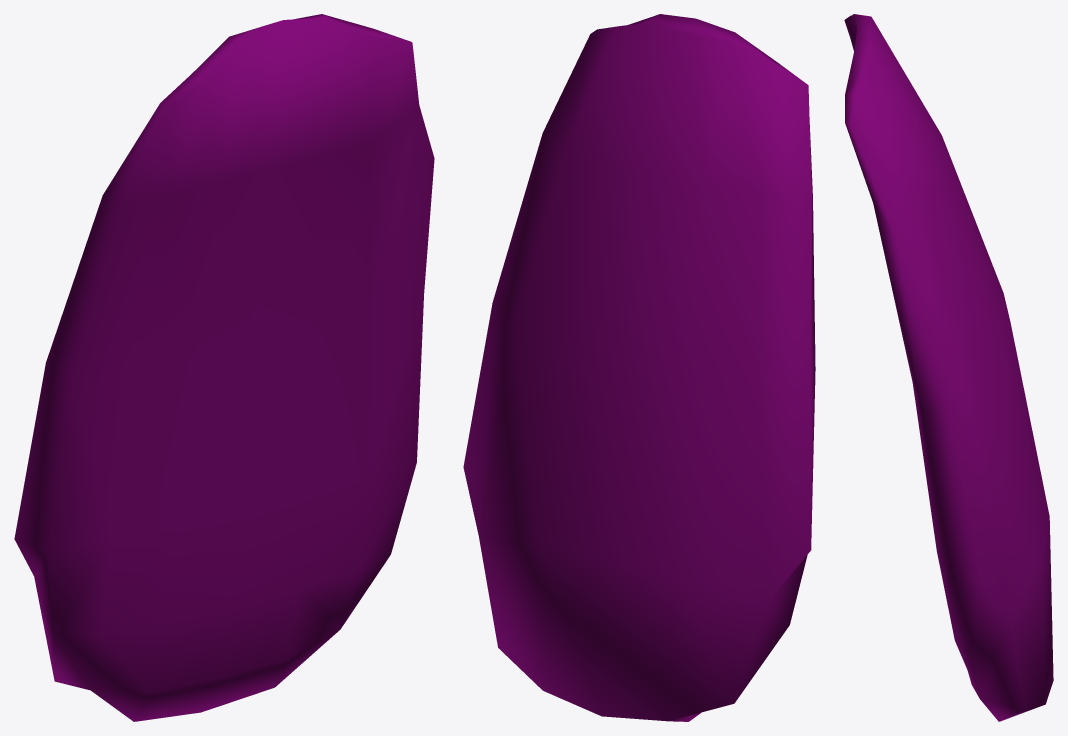
The model's file is wingL.fbx.
3 renders of one model, left to right at view 1: azimuth 30°, elevation 25°; view 2: azimuth 150°, elevation 25°; view 3: azimuth 270°, elevation 25°, orthographic. The views are drawn at different scales.
Parts seen in each view (by area): view 1: wingL; view 2: wingL; view 3: wingL.
Part boxes in pixels (<box>): wingL: <box>14,14,434,721</box>; wingL: <box>463,14,815,721</box>; wingL: <box>844,14,1053,721</box>.
Size of the model in its own units: 15.32 by 27.34 by 7.7.
